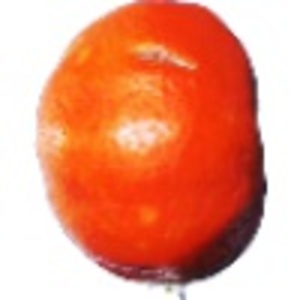tangerina: (32, 1, 267, 300)
